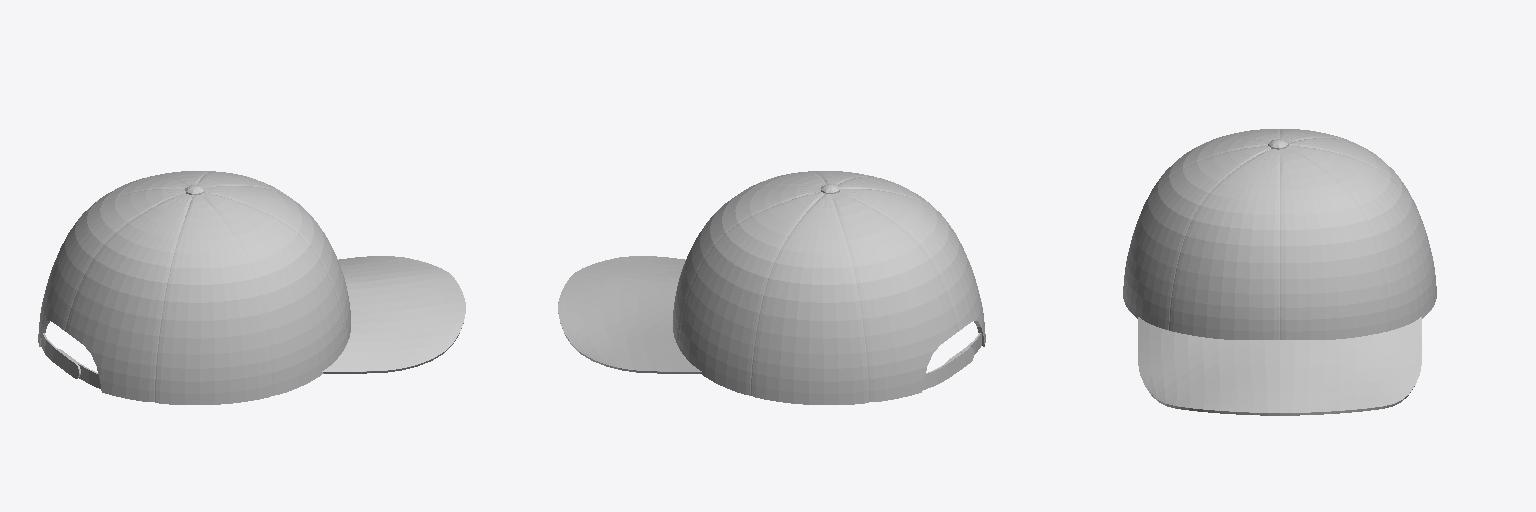
Rendered from propeller cap base.obj.
3 views of the same model, side by side, from view 1: azimuth 30°, elevation 25°; view 2: azimuth 150°, elevation 25°; view 3: azimuth 270°, elevation 25° (orthographic).
Parts seen in each view (by area): view 1: Cap1; view 2: Cap1; view 3: Cap1.
Boxes of the visible parts, <box> form: Cap1: <box>38,171,465,404</box>; Cap1: <box>558,171,985,404</box>; Cap1: <box>1123,129,1436,415</box>.
Bounding box in the file's own units: 1.8 × 0.7607 × 1.27.